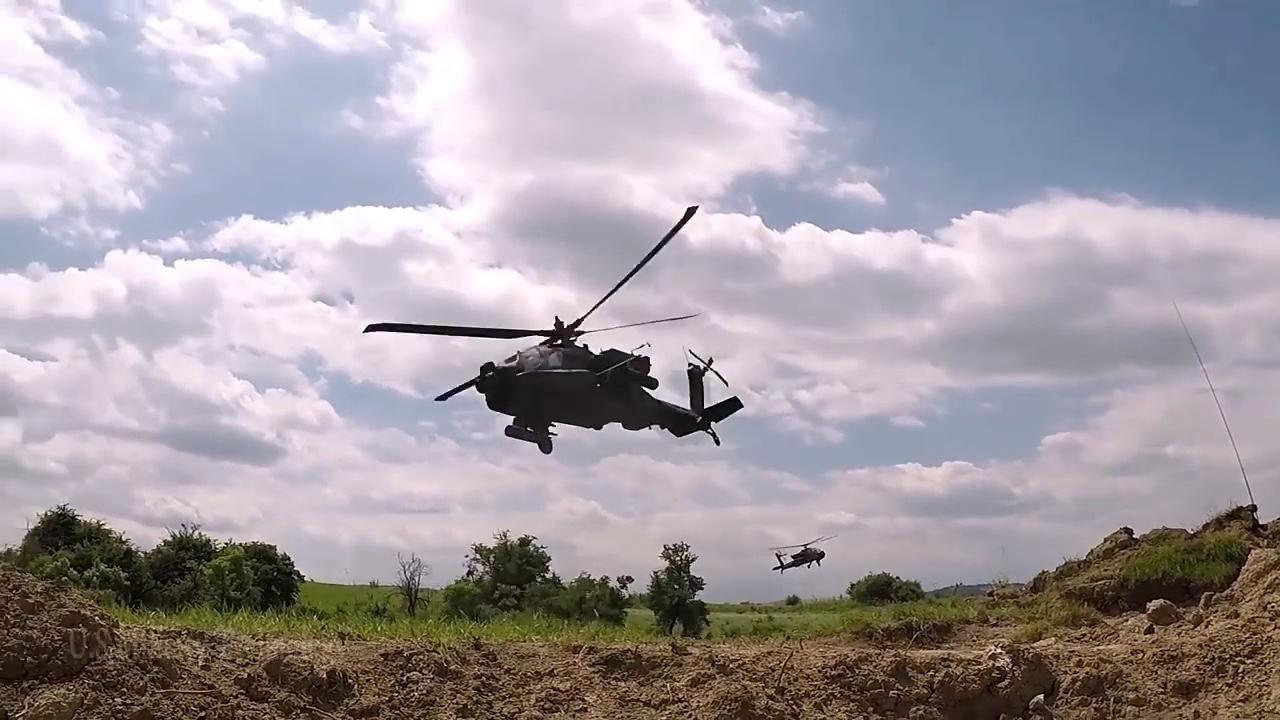ah64: (363, 204, 748, 457), (768, 533, 837, 575)
